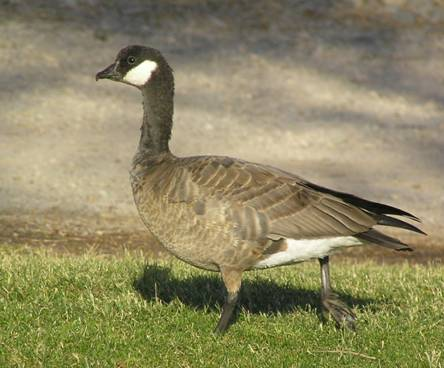goose: (91, 42, 428, 337)
